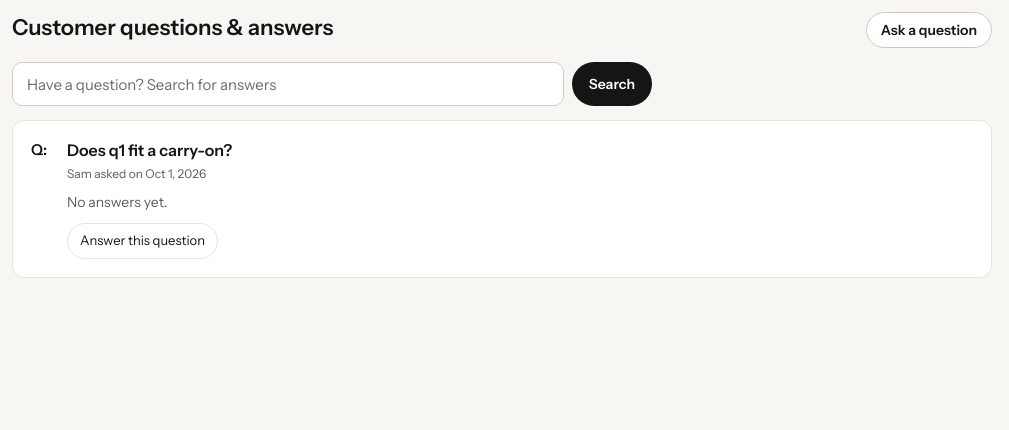
Test: answers a question once
The width and height of the screenshot is (1009, 430).
Click the button "Answer this question". click: (142, 241)
box: [67, 223, 218, 259]
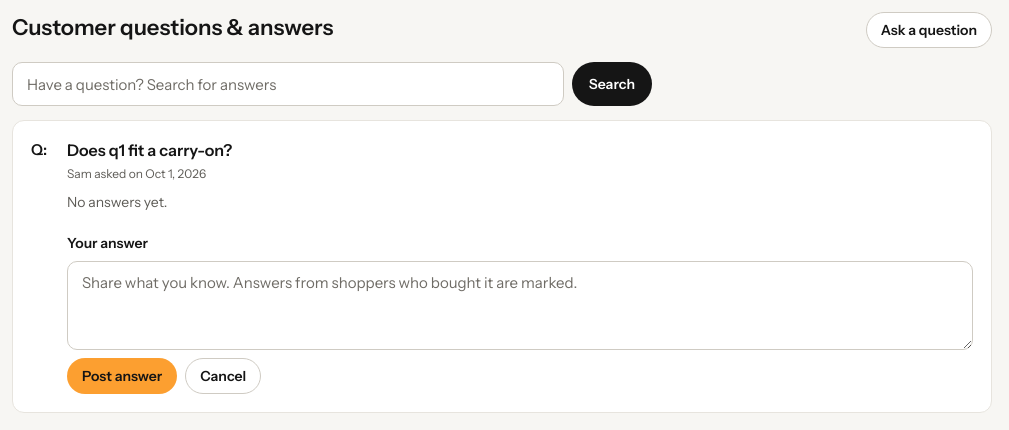
Replace the text in the text box labelled "Your answer" with "Yes, easily.". click: (520, 306)
box: [67, 261, 973, 350]
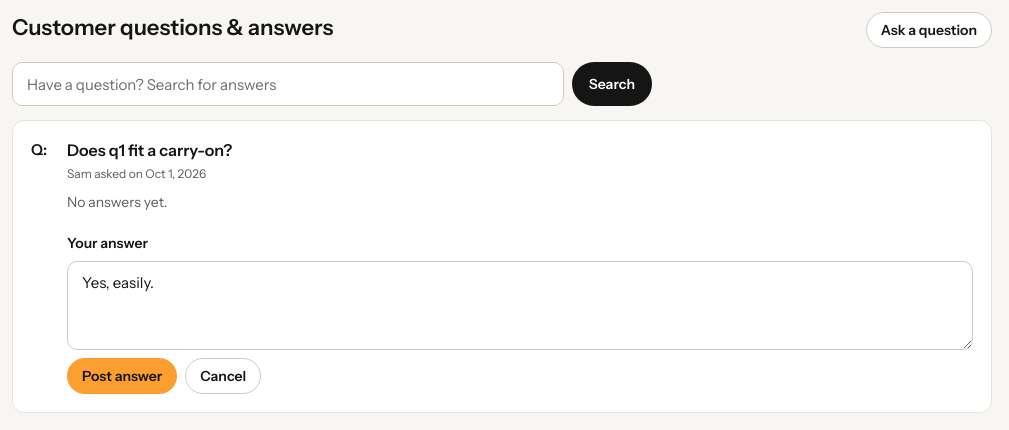
Click the button "Post answer". click: (122, 376)
box: [67, 358, 177, 394]
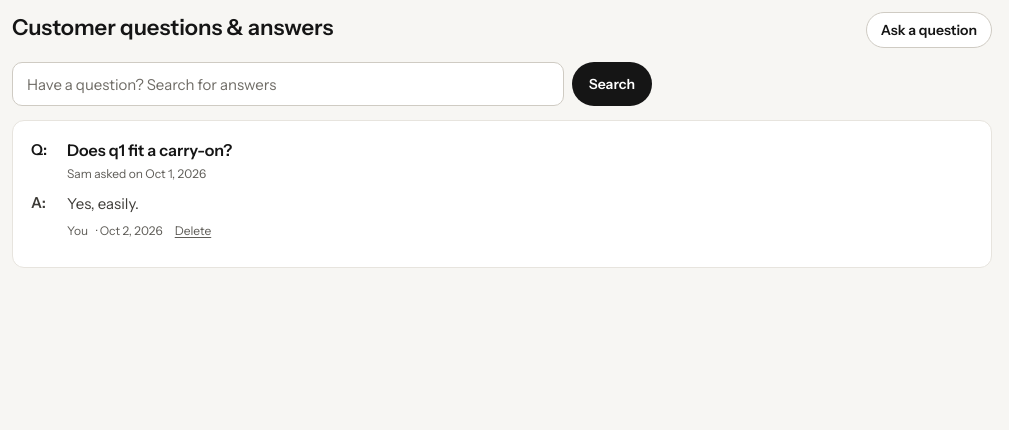
Expected: the button "Answer this question" is not shown
Result: the text "Yes, easily." is shown at [67, 194, 139, 213]
